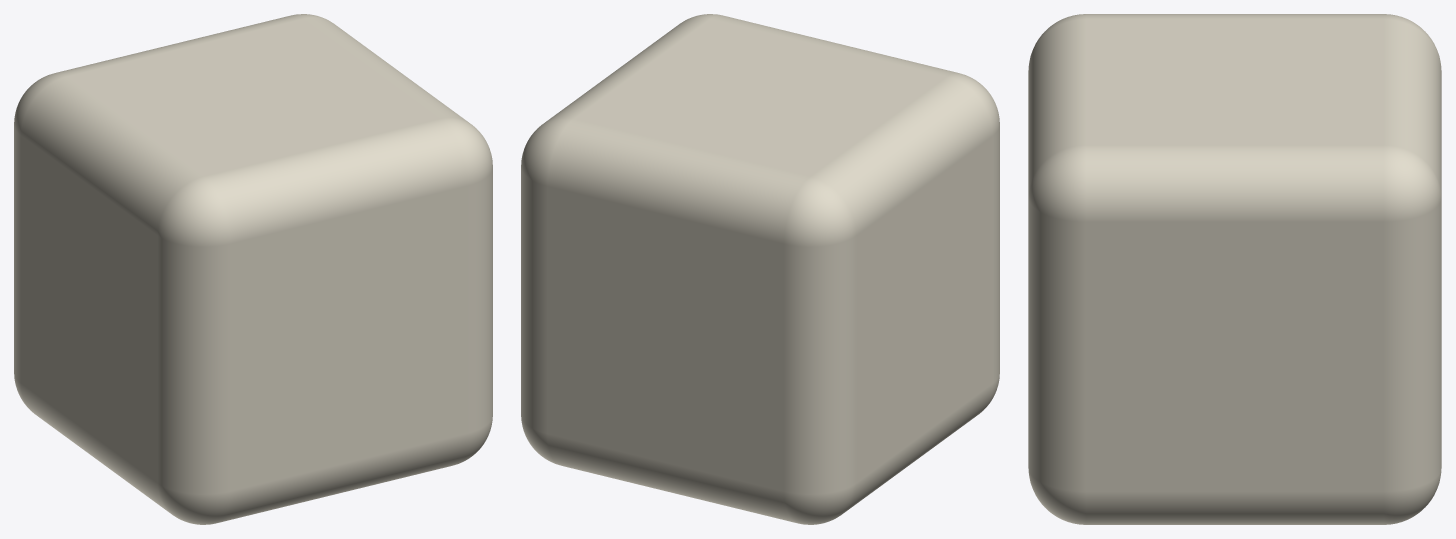
Rendered from Rounded_Beveled_Cube.obj.
3 renders of one model, left to right at view 1: azimuth 30°, elevation 25°; view 2: azimuth 150°, elevation 25°; view 3: azimuth 270°, elevation 25°, orthographic. The views are drawn at different scales.
Parts seen in each view (by area): view 1: Rounded_Beveled_Cube; view 2: Rounded_Beveled_Cube; view 3: Rounded_Beveled_Cube.
Boxes of the visible parts, x1=… form: Rounded_Beveled_Cube: x1=14, y1=14, x2=492, y2=524; Rounded_Beveled_Cube: x1=521, y1=14, x2=999, y2=524; Rounded_Beveled_Cube: x1=1028, y1=14, x2=1441, y2=524.
Size of the model in its own units: 1 by 1 by 1.
